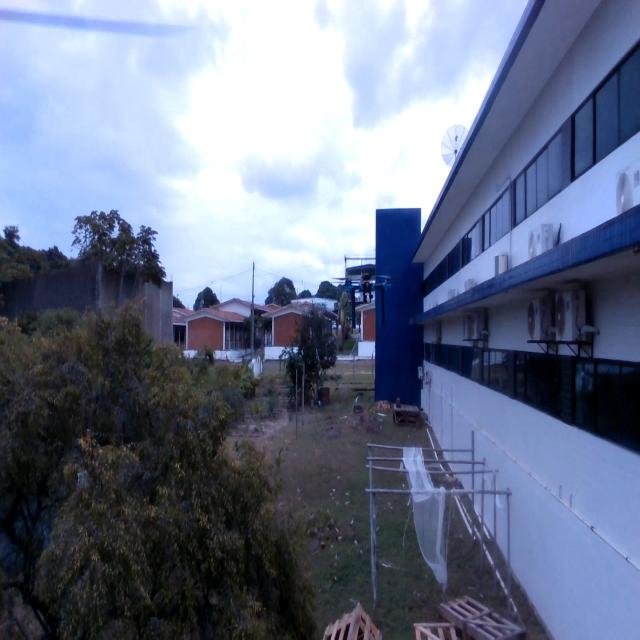-uav-: (326, 249, 402, 341)
